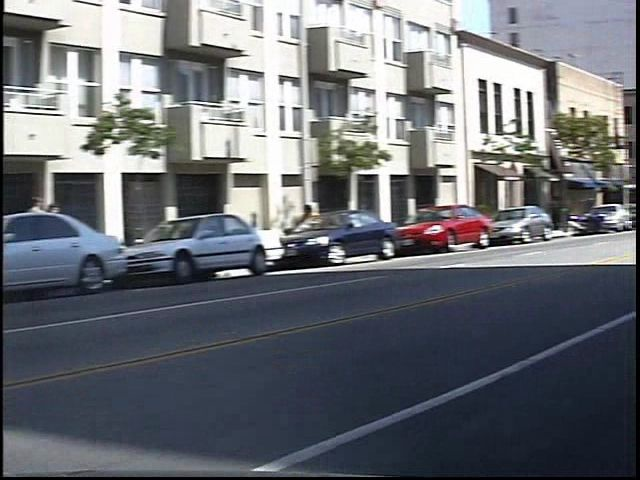person: (40, 187, 64, 266), (60, 197, 80, 263)
